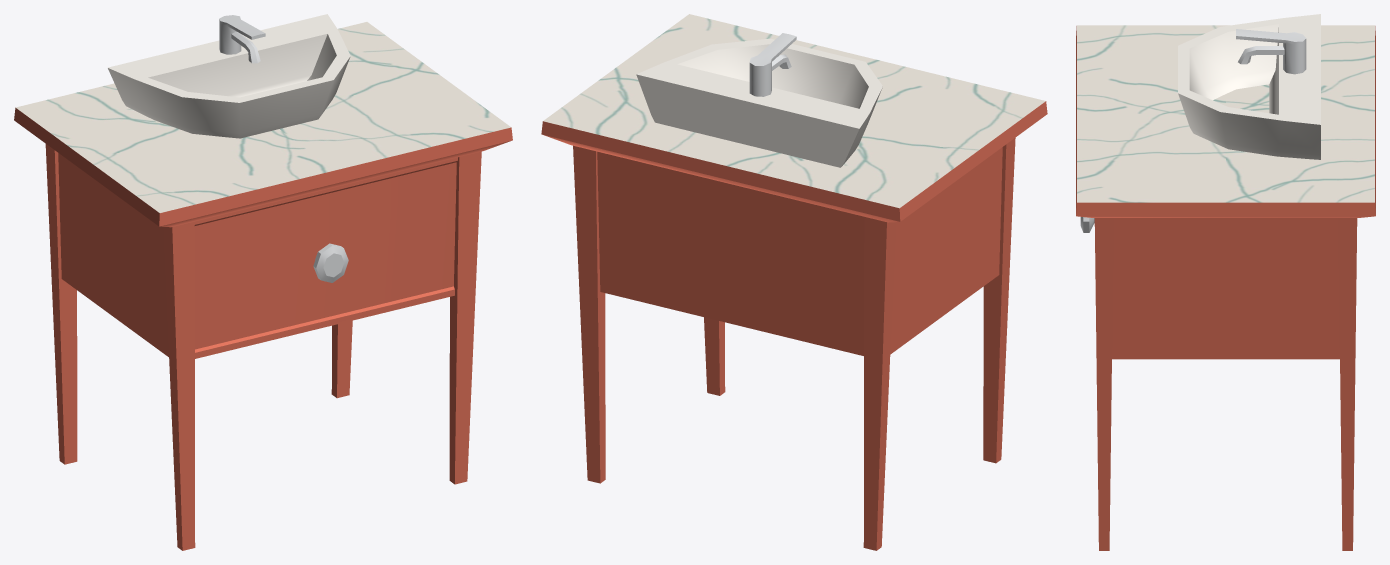
Rendered from sink_c.glb.
3 renders of one model, left to right at view 1: azimuth 30°, elevation 25°; view 2: azimuth 150°, elevation 25°; view 3: azimuth 270°, elevation 25°, orthographic. The views are drawn at different scales.
Parts seen in each view (by area): view 1: body; view 2: body; view 3: body.
Boxes of the visible parts, left/top/right/bottom form: body: left=14, top=14, right=512, bottom=550; body: left=541, top=14, right=1047, bottom=550; body: left=1076, top=14, right=1375, bottom=550.
Bounding box in the file's own units: 0.9 × 1.05 × 0.64.
4 materials, 1 textured.
